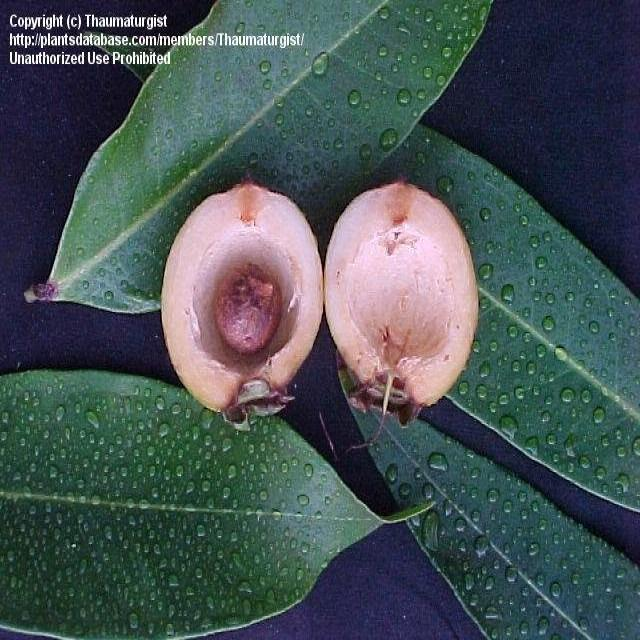Medicinal-Rose Apple: (9, 77, 640, 640)
